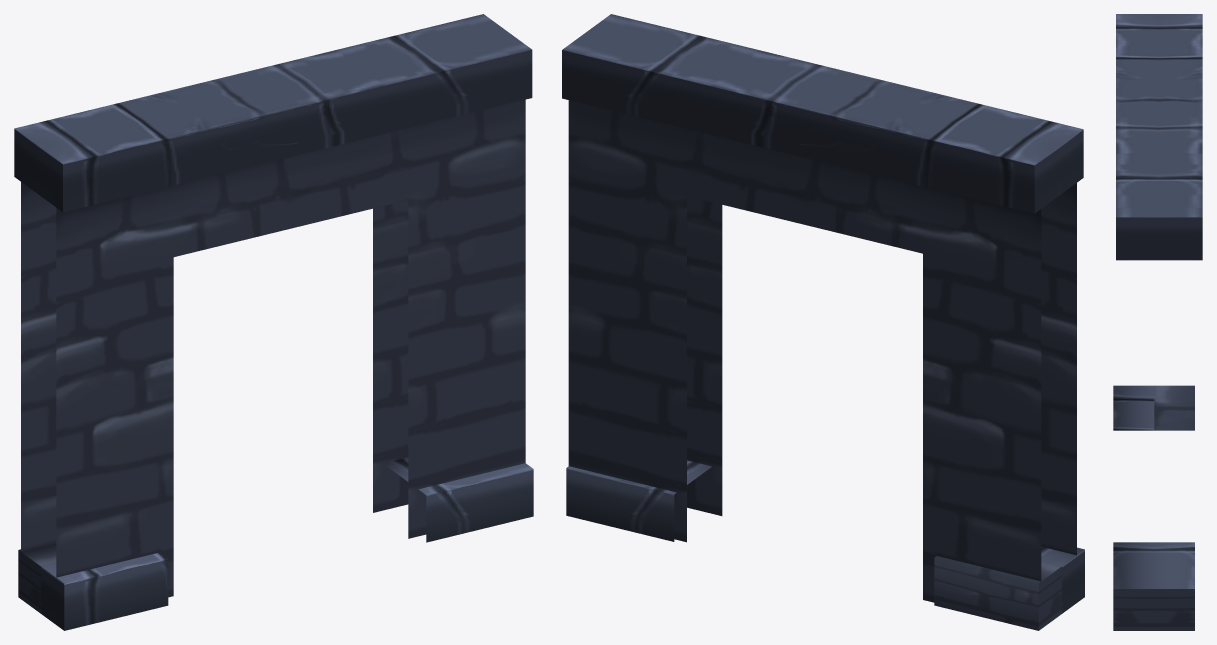
The model's file is DungeonDoorWall.fbx.
The picture shows the model from 3 angles, left to right: view 1: azimuth 30°, elevation 25°; view 2: azimuth 150°, elevation 25°; view 3: azimuth 270°, elevation 25°; orthographic projection. The views are drawn at different scales.
Parts seen in each view (by area): view 1: polySurface11; view 2: polySurface11; view 3: polySurface11.
Part boxes in pixels (x1,y1,x2,y2): polySurface11: [14, 14, 533, 630]; polySurface11: [562, 14, 1084, 630]; polySurface11: [1113, 14, 1202, 630].
Bounding box in the file's own units: 200 × 190 × 37.01.
